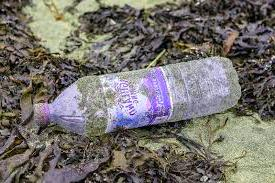Plastic: (33, 54, 242, 132)
